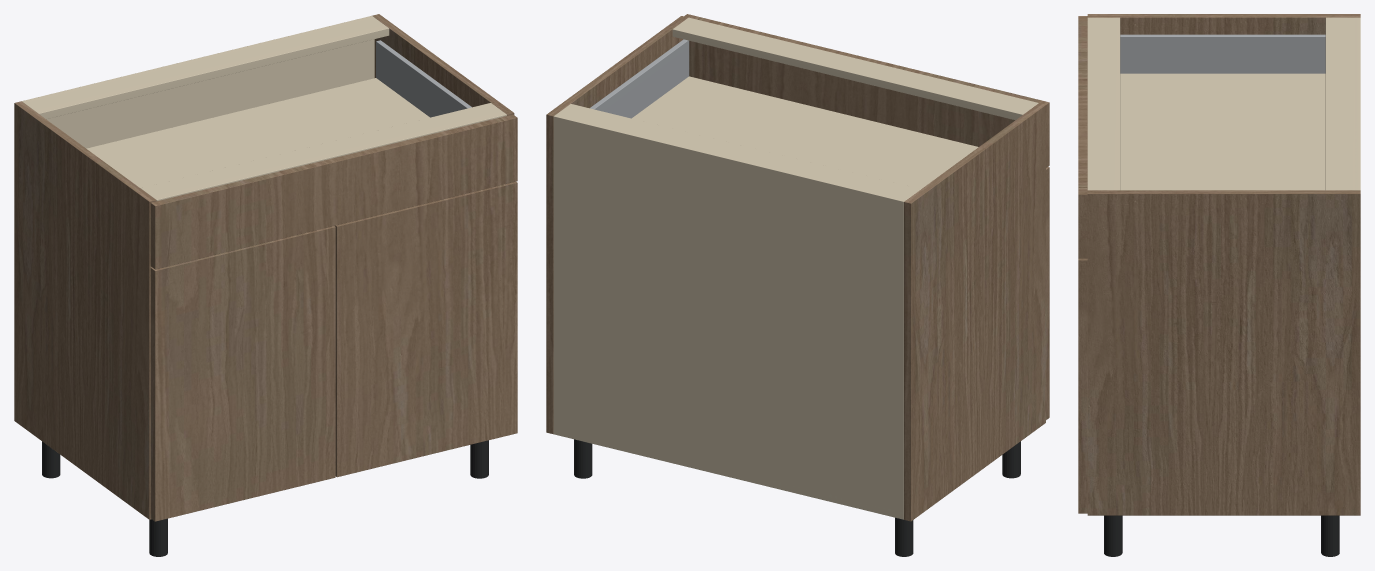
File: oppein-ply-mnw-b36.glb
3 views of the same model, side by side, from view 1: azimuth 30°, elevation 25°; view 2: azimuth 150°, elevation 25°; view 3: azimuth 270°, elevation 25° (orthographic).
Visible parts, largest first — view 1: Door, Door.001, Cabinet side, Drawer front, Drawer floor, Cabinet back, Top support rail, Top support rail.001, Drawer side.001, Cabinet side.001, Adjustable foot.001, Adjustable foot.003; view 2: Cabinet back, Cabinet side, Drawer floor, Drawer front, Top support rail.001, Cabinet side.001, Top support rail, Drawer side.001, Door, Adjustable foot, Adjustable foot.002; view 3: Cabinet side.001, Drawer floor, Drawer side, Top support rail.001, Top support rail, Cabinet side, Door.001, Drawer front, Cabinet back, Adjustable foot.003, Adjustable foot.002.
Boxes of the visible parts, x1,y1,x2,y2 form: Door: (150, 226, 335, 521); Door.001: (335, 181, 517, 477); Cabinet side: (14, 101, 156, 519); Drawer front: (150, 114, 517, 269); Drawer floor: (86, 78, 429, 188); Cabinet back: (21, 15, 374, 148); Top support rail: (23, 17, 389, 119); Top support rail.001: (141, 103, 506, 201); Drawer side.001: (376, 40, 471, 117); Cabinet side.001: (372, 14, 514, 115); Adjustable foot.001: (149, 518, 167, 556); Adjustable foot.003: (470, 440, 488, 478); Cabinet back: (553, 114, 905, 519); Cabinet side: (904, 103, 1045, 521); Drawer floor: (632, 76, 978, 188); Drawer front: (684, 14, 1049, 167); Top support rail.001: (672, 17, 1038, 120); Cabinet side.001: (546, 16, 688, 434); Top support rail: (556, 104, 920, 199); Drawer side.001: (590, 39, 689, 118); Door: (1046, 167, 1049, 419); Adjustable foot: (895, 517, 913, 556); Adjustable foot.002: (574, 439, 592, 478); Cabinet side.001: (1087, 190, 1360, 515); Drawer floor: (1120, 73, 1325, 190); Drawer side: (1120, 34, 1325, 73); Top support rail.001: (1087, 17, 1120, 190); Top support rail: (1325, 17, 1357, 190); Cabinet side: (1087, 14, 1360, 34); Door.001: (1078, 258, 1087, 513); Drawer front: (1078, 16, 1087, 258); Cabinet back: (1355, 17, 1360, 190); Adjustable foot.003: (1104, 515, 1122, 556); Adjustable foot.002: (1321, 515, 1339, 556).
Size of the model in its own units: 0.9144 by 0.8763 by 0.6064.
4 materials, 1 textured.
